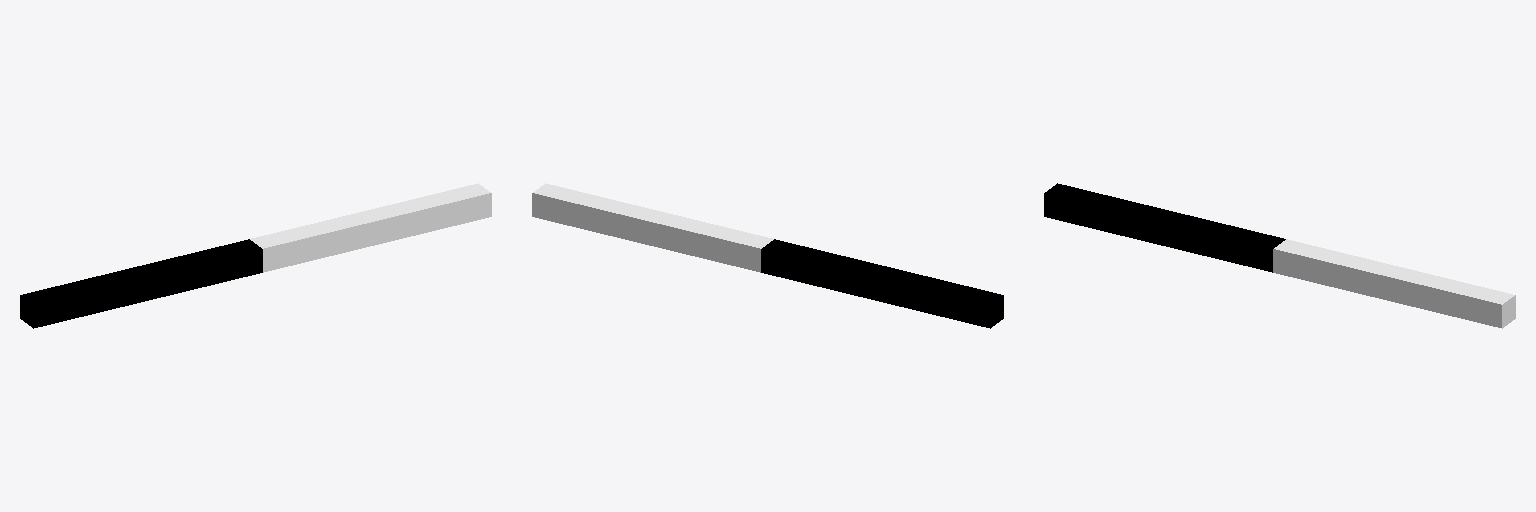
URDF robot description (two_link_robot):
<?xml version="1.0" ?>
<robot name="two_link_robot" xmlns:xacro="http://www.ros.org/wiki/xacro">
    
    <!-- materials -->
    <material name="black">
        <color rgba="0 0 0 0.7"/>
    </material>
    <material name="white">
        <color rgba="1 1 1 0.7"/>
    </material>

    <!-- links -->
    <link name="base"/>

    <link name="arm1">
        <inertial>
            <origin rpy="0 0 0" xyz="0.5 0 0"/>
            <mass value="1."/>
            <inertia ixx="0.1" ixy="0" ixz="0" iyy="0.1" iyz="0" izz="0.1"/>
        </inertial>
        <visual>
            <geometry>
                <box size="1 .1 .1"/>
            </geometry>
            <origin rpy="0 0 0" xyz="0.5 0 0"/>
            <material name="black"/>
        </visual>
        <collision>
            <geometry>
                <box size="1 .1 .1"/>
            </geometry>
            <origin rpy="0 0 0" xyz="0.5 0 0"/>
            <material name="black"/>
        </collision>
    </link>

    <link name="arm2">
        <inertial>
            <origin rpy="0 0 0" xyz="0.5 0 0"/>
            <mass value="1."/>
            <inertia ixx="0.1" ixy="0" ixz="0" iyy="0.1" iyz="0" izz="0.1"/>
        </inertial>
        <visual>
            <geometry>
                <box size="1 .1 .1"/>
            </geometry>
            <origin rpy="0 0 0" xyz="0.5 0 0"/>
            <material name="white"/>
        </visual>
        <collision>
            <geometry>
                <box size="1 .1 .1"/>
            </geometry>
            <origin rpy="0 0 0" xyz="0.5 0 0"/>
            <material name="white"/>
        </collision>
    </link>

    <link name="endEffector"/>

    <!-- joints -->
    <joint name="baseHinge" type="continuous">
        <axis rpy="0 0 0" xyz="0 1 0"/>
        <parent link="base"/>
        <child link="arm1"/>
        <origin rpy="0 0 0" xyz="0 0 0"/>
    </joint>

    <joint name="interArm" type="continuous">
        <axis rpy="0 0 0" xyz="0 0 1"/>
        <parent link="arm1"/>
        <child link="arm2"/>
        <origin rpy="0 0 0" xyz="1 0 0"/>
    </joint>

    <joint name="ee_joint" type="fixed">
        <parent link="arm2"/>
        <child link="endEffector"/>
        <origin rpy="0 0 0" xyz="1 0 0"/>
    </joint>

</robot>

--- Render facts (derived) ---
Views: 3 orthographic renders of the robot side by side, from view 1: azimuth 30°, elevation 25°; view 2: azimuth 150°, elevation 25°; view 3: azimuth 330°, elevation 25°.
Model two_link_robot with 4 links and 3 joints (2 continuous, 1 fixed), rooted at base, posed all joints at 0.
Links seen in each view (by area): view 1: arm1, arm2; view 2: arm1, arm2; view 3: arm2, arm1.
Boxes of the visible links, x1,y1,x2,y2 form: arm1: (20, 239, 262, 328); arm2: (250, 183, 491, 272); arm1: (761, 239, 1003, 328); arm2: (532, 183, 773, 272); arm2: (1273, 239, 1515, 328); arm1: (1044, 183, 1285, 272).
Bounding box of the posed robot: 2 × 0.1 × 0.1 m (x, y, z).
Geometry: primitives only (box / cylinder / sphere), no mesh files.
